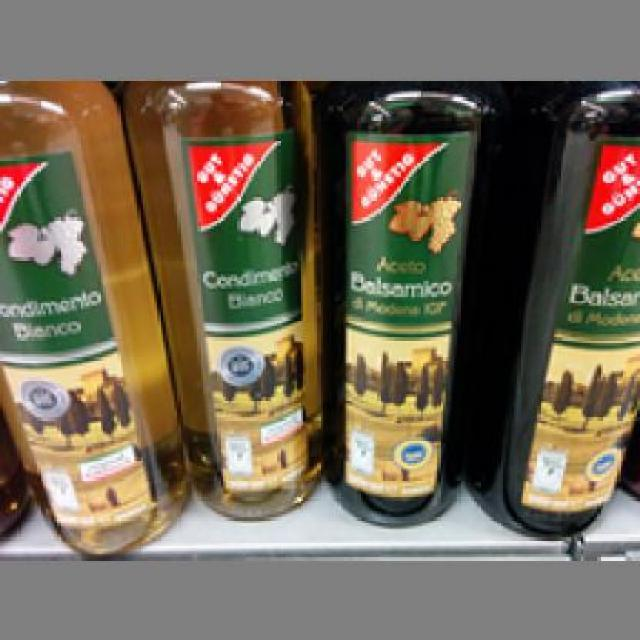Vinegar: (0, 79, 186, 555), (123, 82, 326, 518), (462, 79, 638, 532), (328, 77, 492, 526)
